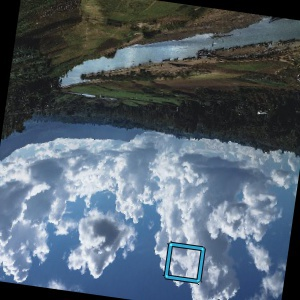square: (160, 239, 207, 287)
